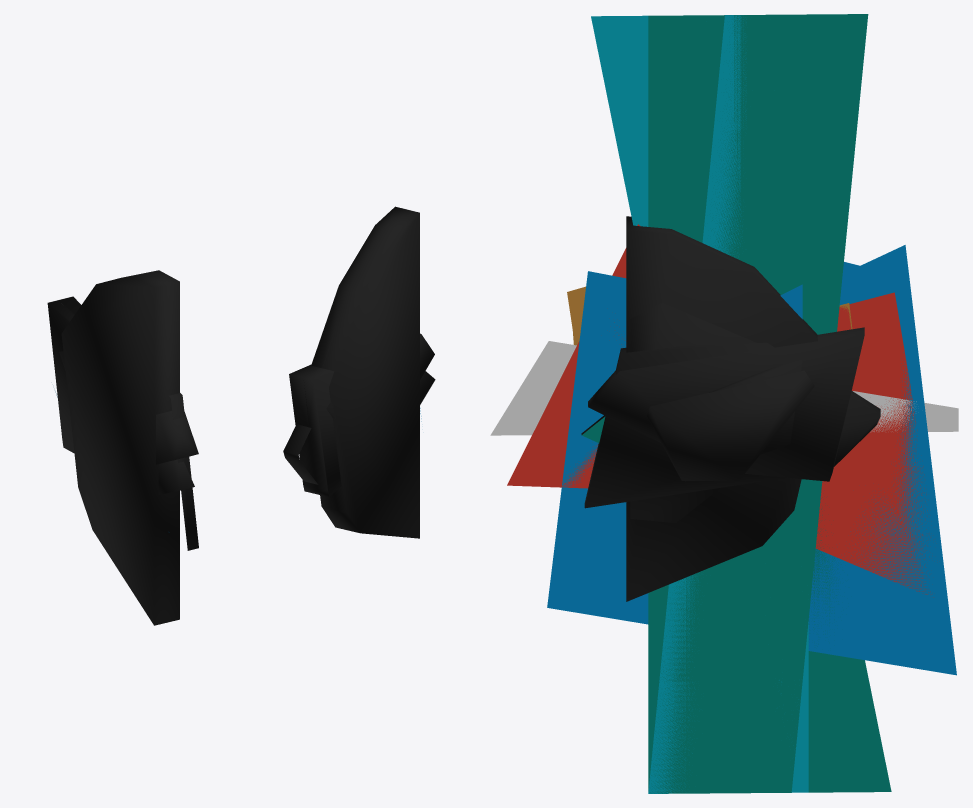
File: rock_band_poster_plane_002_chunks.glb
The picture shows the model from 3 angles, left to right: view 1: azimuth 30°, elevation 25°; view 2: azimuth 150°, elevation 25°; view 3: azimuth 270°, elevation 25°; orthographic projection. The views are drawn at different scales.
Parts seen in each view (by area): view 1: Rock_Band_Poster_Plane.001_cell.028, Rock_Band_Poster_Plane.001_cell.002, Rock_Band_Poster_Plane.001_cell.033, Rock_Band_Poster_Plane.001_cell.021; view 2: Rock_Band_Poster_Plane.001_cell.028, Rock_Band_Poster_Plane.001_cell.002, Rock_Band_Poster_Plane.001_cell.033; view 3: Rock_Band_Poster_Plane.027, Rock_Band_Poster_Plane.019, Rock_Band_Poster_Plane.001_cell.028, Rock_Band_Poster_Plane.015, Rock_Band_Poster_Plane.001_cell.002, Rock_Band_Poster_Plane.023, Rock_Band_Poster_Plane.001_cell.009, Rock_Band_Poster_Plane.026, Rock_Band_Poster_Plane.001_cell.033, Rock_Band_Poster_Plane.024, Rock_Band_Poster_Plane.018, Rock_Band_Poster_Plane.001_cell.005 (+1 smaller).
Boxes of the visible parts, x1,y1,x2,y2 form: Rock_Band_Poster_Plane.001_cell.028: (61, 270, 179, 625); Rock_Band_Poster_Plane.001_cell.002: (47, 296, 198, 464); Rock_Band_Poster_Plane.001_cell.033: (55, 391, 198, 550); Rock_Band_Poster_Plane.001_cell.021: (158, 459, 194, 494); Rock_Band_Poster_Plane.001_cell.028: (311, 206, 419, 538); Rock_Band_Poster_Plane.001_cell.002: (289, 333, 434, 496); Rock_Band_Poster_Plane.001_cell.033: (283, 408, 421, 484); Rock_Band_Poster_Plane.027: (648, 14, 868, 793); Rock_Band_Poster_Plane.019: (547, 245, 956, 675); Rock_Band_Poster_Plane.001_cell.028: (626, 216, 817, 601); Rock_Band_Poster_Plane.015: (507, 224, 933, 597); Rock_Band_Poster_Plane.001_cell.002: (588, 327, 864, 481); Rock_Band_Poster_Plane.023: (648, 15, 746, 793); Rock_Band_Poster_Plane.001_cell.009: (647, 370, 814, 480); Rock_Band_Poster_Plane.026: (665, 17, 891, 792); Rock_Band_Poster_Plane.001_cell.033: (584, 342, 880, 508); Rock_Band_Poster_Plane.024: (591, 15, 808, 792); Rock_Band_Poster_Plane.018: (490, 341, 958, 435); Rock_Band_Poster_Plane.001_cell.005: (630, 302, 756, 523).
Size of the model in its own units: 0.1808 by 4.2 by 2.29.
